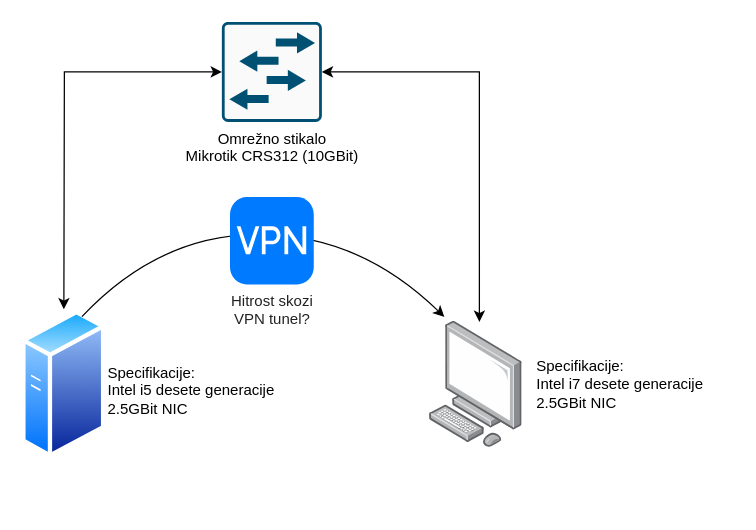
This 756x530 diagram has some shape labels left out. Each missing label, with the centre of its shape:
"VPN odjemalec 2.5GBit NIC" belongs at (475,384).
"VPN strežnik 2.5GBit NIC" belongs at (63,384).
